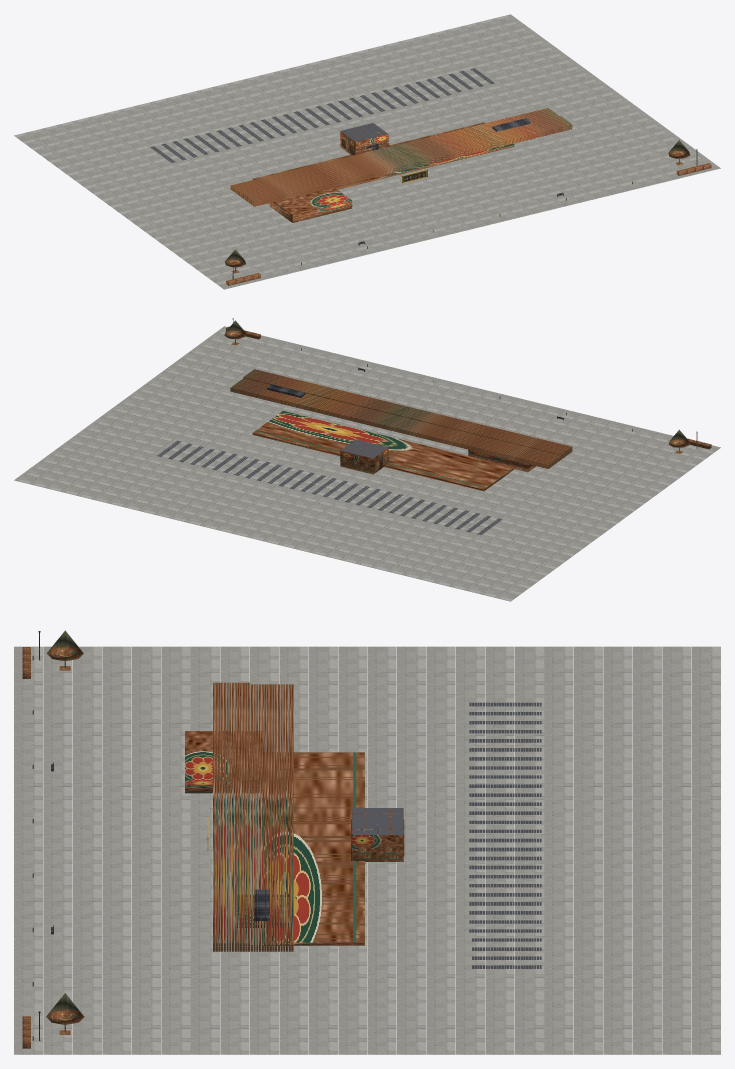
3 renders of one model, top to bottom at view 1: azimuth 30°, elevation 25°; view 2: azimuth 150°, elevation 25°; view 3: azimuth 270°, elevation 25°, orthographic. The views are drawn at different scales.
Parts seen in each view (by area): view 1: 11710_01_05505_026_01__plinth_ground_base, 11710_01_05505_026_02__mass_body_facade, 11710_01_05505_026_03__roof_deck_structure, 11710_01_05505_026_06__landscape_greenery; view 2: 11710_01_05505_026_01__plinth_ground_base, 11710_01_05505_026_02__mass_body_facade, 11710_01_05505_026_03__roof_deck_structure, 11710_01_05505_026_06__landscape_greenery; view 3: 11710_01_05505_026_01__plinth_ground_base, 11710_01_05505_026_02__mass_body_facade, 11710_01_05505_026_03__roof_deck_structure, 11710_01_05505_026_06__landscape_greenery.
Part boxes in pixels (x1,y1,x2,y2): 11710_01_05505_026_01__plinth_ground_base: [14, 14, 720, 289]; 11710_01_05505_026_02__mass_body_facade: [230, 108, 572, 222]; 11710_01_05505_026_03__roof_deck_structure: [150, 68, 494, 162]; 11710_01_05505_026_06__landscape_greenery: [225, 140, 711, 285]; 11710_01_05505_026_01__plinth_ground_base: [14, 326, 720, 601]; 11710_01_05505_026_02__mass_body_facade: [230, 369, 572, 491]; 11710_01_05505_026_03__roof_deck_structure: [157, 439, 502, 534]; 11710_01_05505_026_06__landscape_greenery: [224, 320, 711, 453]; 11710_01_05505_026_01__plinth_ground_base: [14, 646, 720, 1054]; 11710_01_05505_026_02__mass_body_facade: [185, 682, 404, 951]; 11710_01_05505_026_03__roof_deck_structure: [352, 702, 541, 968]; 11710_01_05505_026_06__landscape_greenery: [22, 630, 84, 1048].
Bounding box in the file's own units: 150 × 6.9 × 110.
7 materials, 7 textured.
